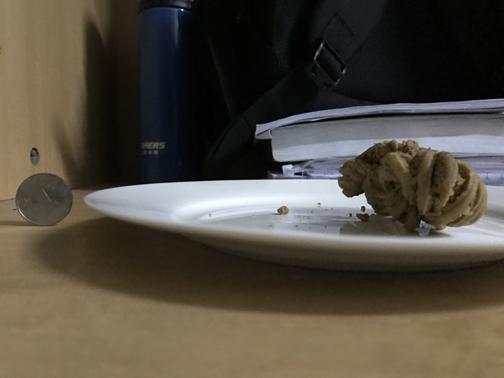coin: (13, 172, 74, 226)
fired_dough_twist: (331, 141, 487, 227)
